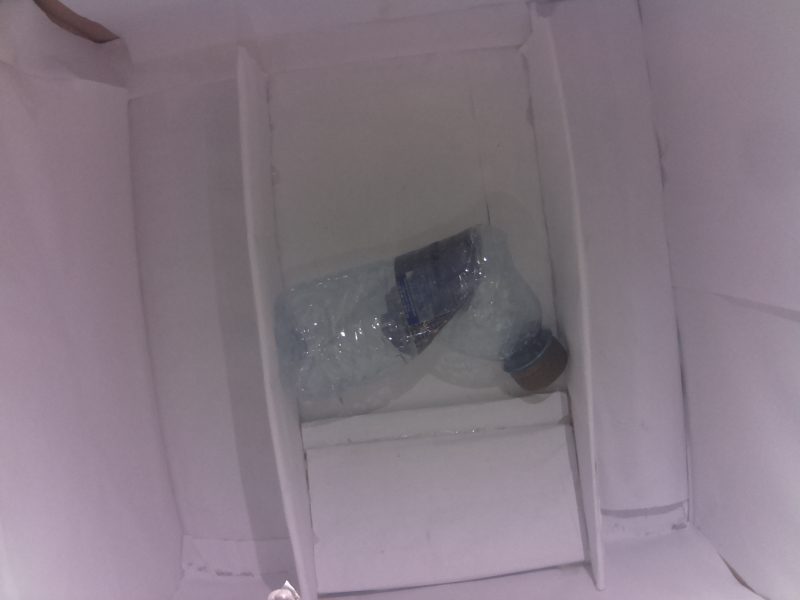botolplastik: (275, 225, 568, 391)
